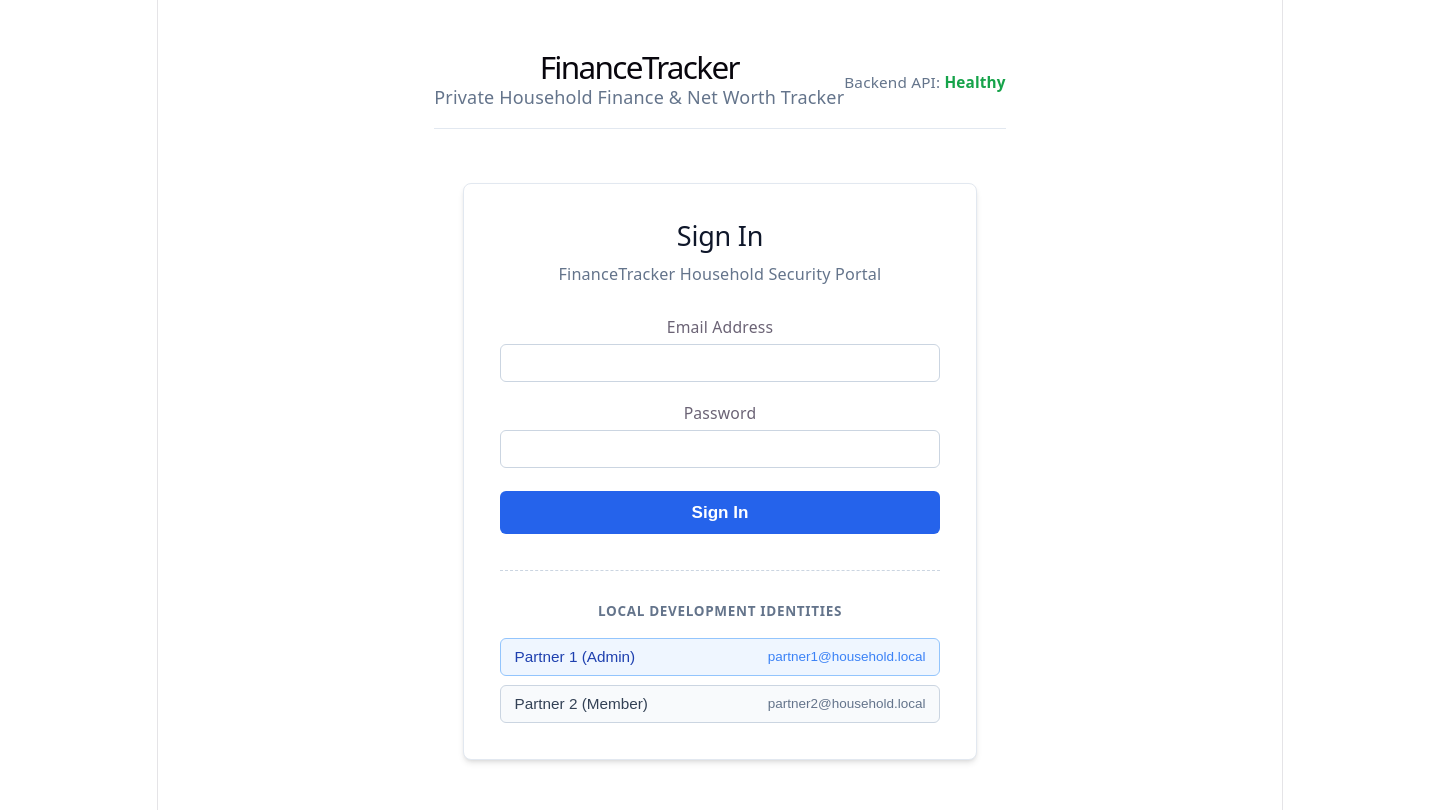
Test: App Component › displays an error message when login fails with invalid credentials
Type "bad@household.local" into the field with test id "login-email" at (720, 363), box [500, 344, 940, 382]
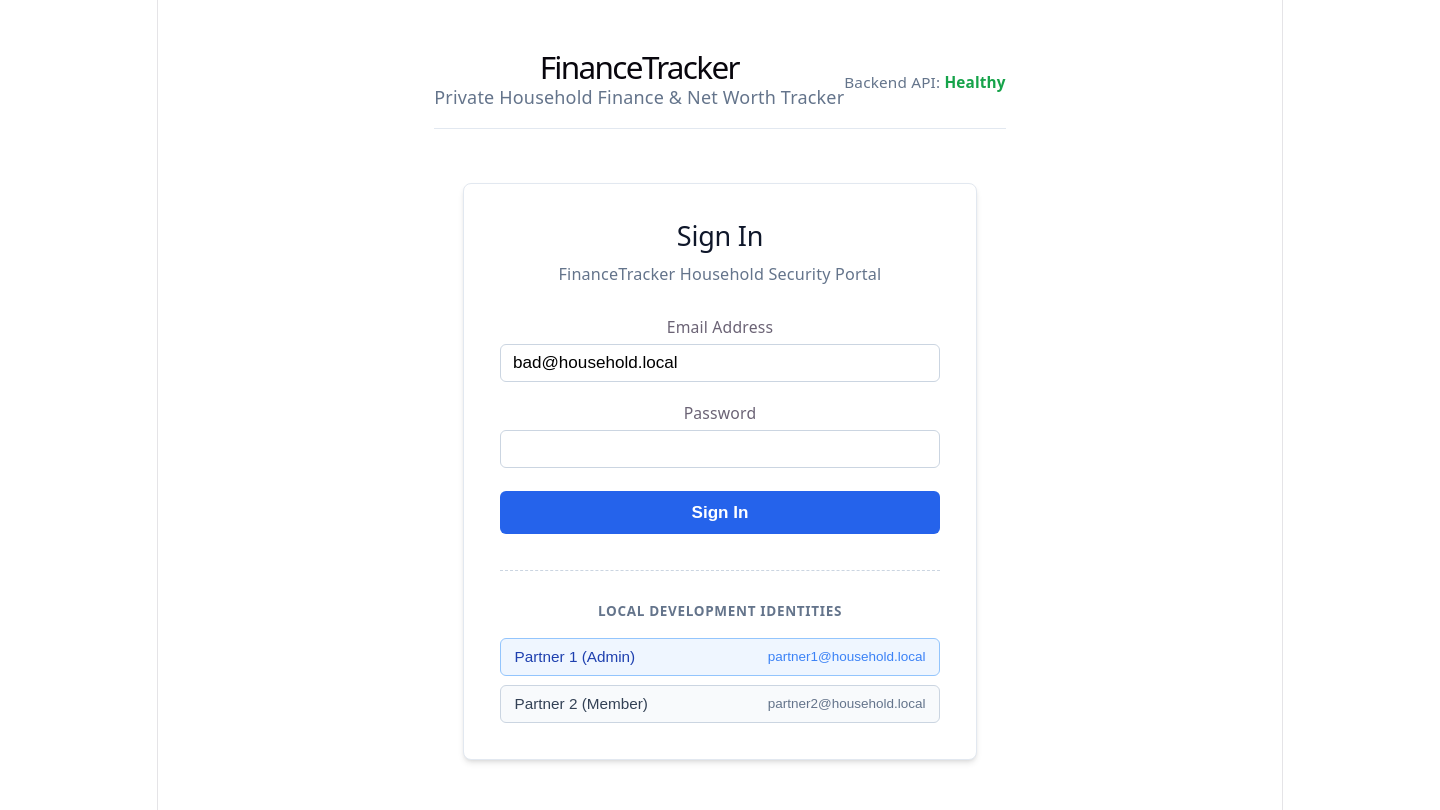
Type "WrongPass!" into the password field with test id "login-password" at (720, 449), box [500, 430, 940, 468]
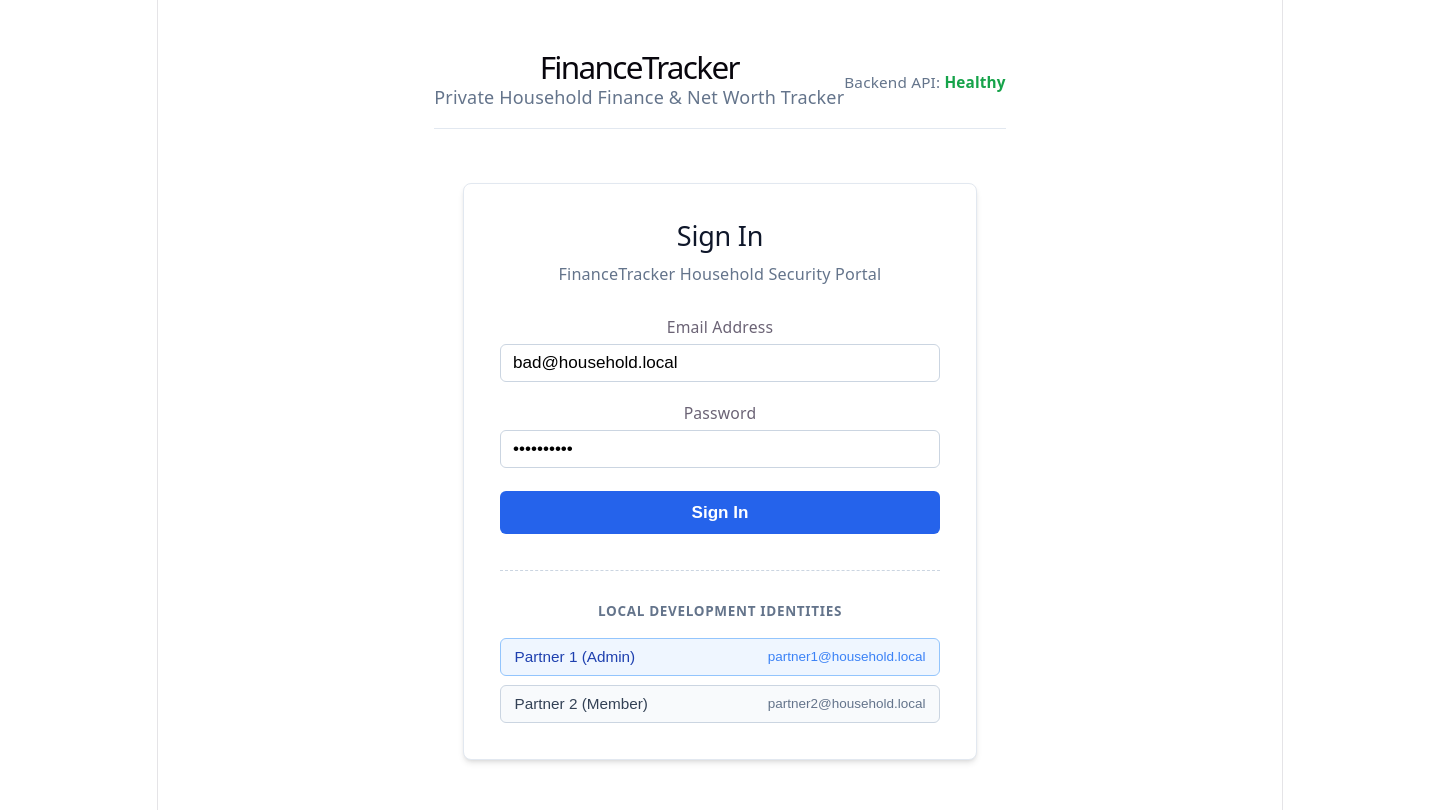
Click the button with test id "login-submit" at (720, 512), box [500, 491, 940, 534]
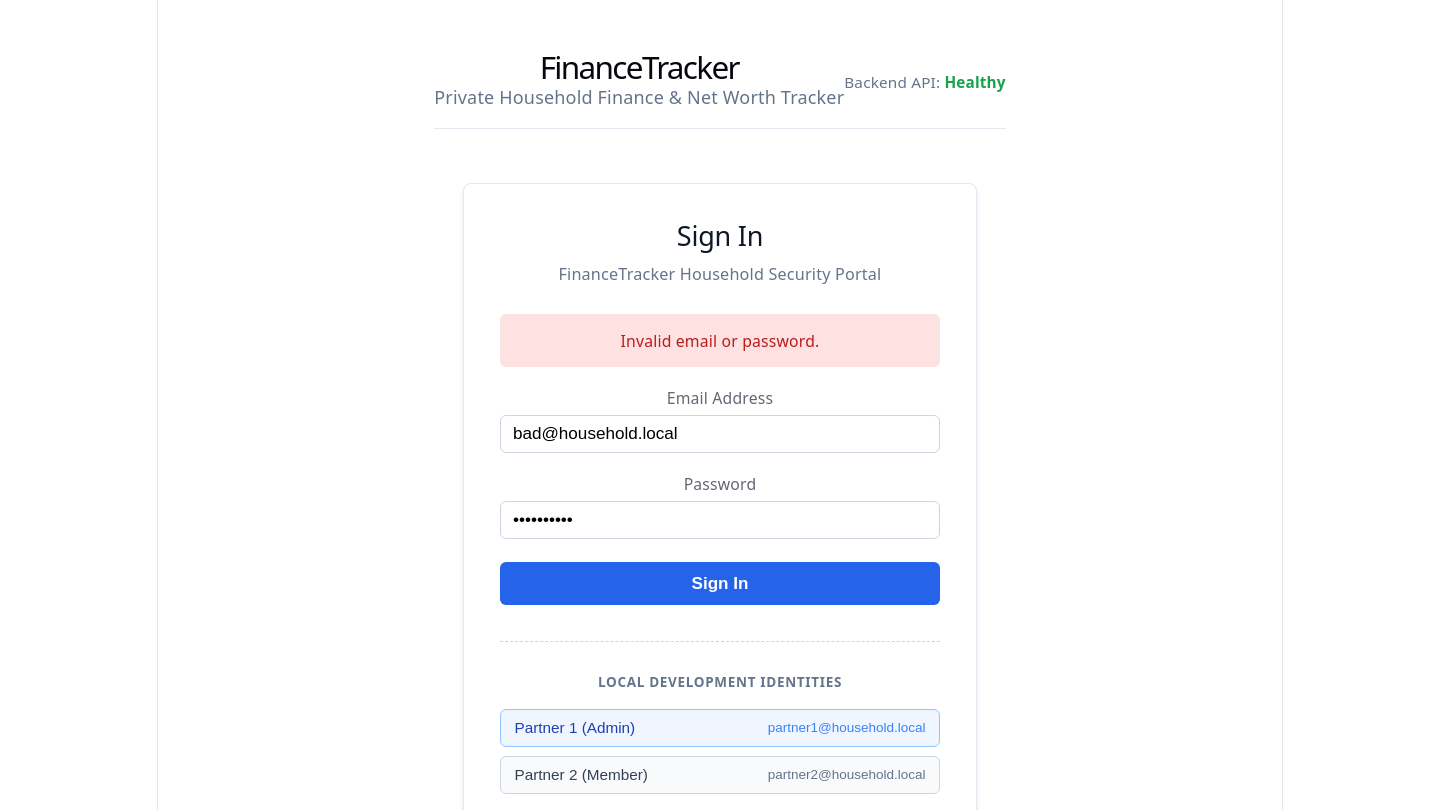
Now the text with test id "login-error" reads "Invalid email or password.", box [620, 330, 819, 352]
